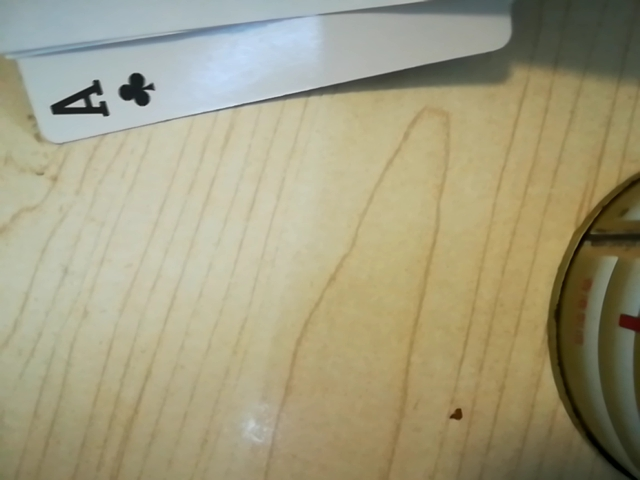mh a: (40, 61, 169, 130)
